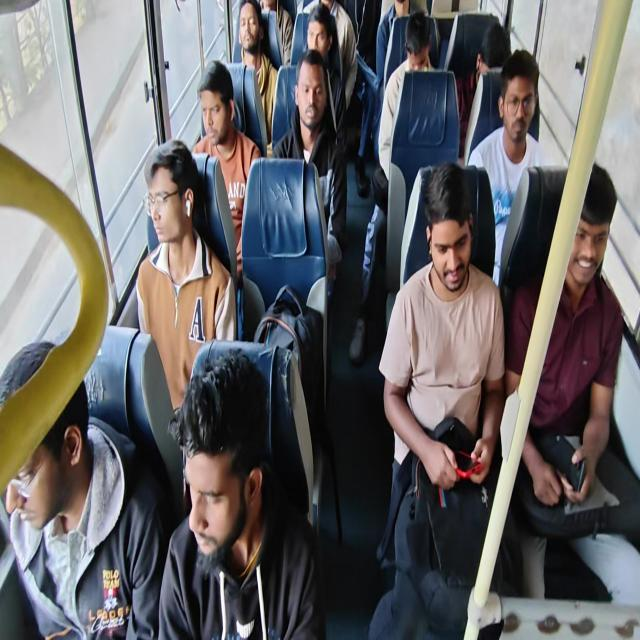person: (368, 160, 506, 638), (504, 161, 639, 604), (1, 339, 166, 639), (157, 349, 325, 639), (348, 11, 436, 363), (135, 138, 238, 414), (271, 48, 347, 296), (467, 48, 546, 286), (191, 59, 262, 279), (378, 11, 436, 181), (456, 22, 512, 155), (232, 0, 278, 145), (305, 4, 347, 137), (375, 0, 411, 91), (345, 0, 382, 71), (259, 0, 293, 66)
